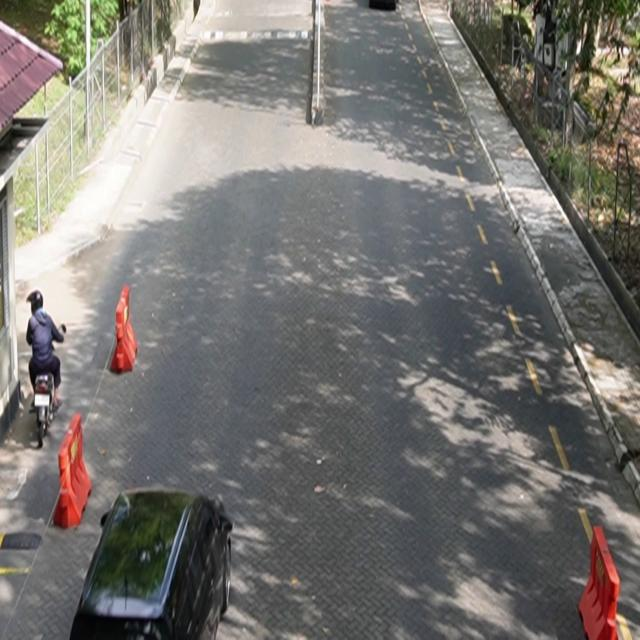car: (70, 488, 234, 640)
